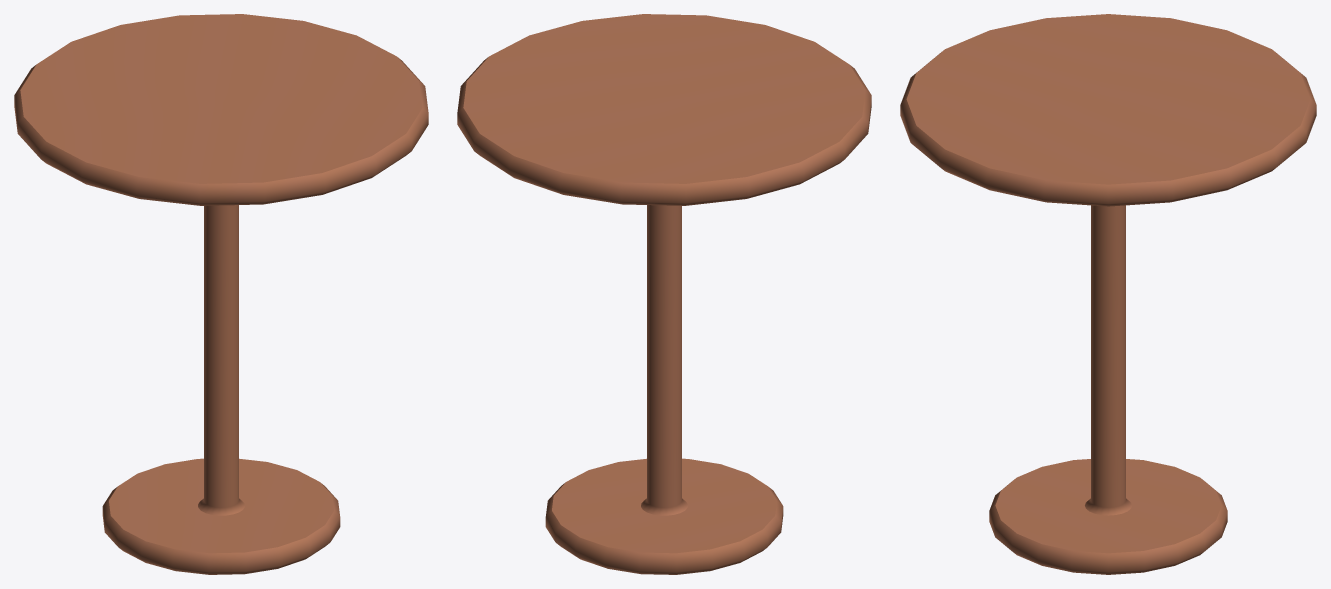
File: table.fbx
3 renders of one model, left to right at view 1: azimuth 30°, elevation 25°; view 2: azimuth 150°, elevation 25°; view 3: azimuth 270°, elevation 25°, orthographic.
Visible parts, largest first — view 1: table; view 2: table; view 3: table.
Boxes of the visible parts, x1,y1,x2,y2 form: table: (14, 14, 428, 574); table: (457, 14, 871, 574); table: (900, 14, 1316, 574).
Bounding box in the file's own units: 8.07 × 9.15 × 8.07.
